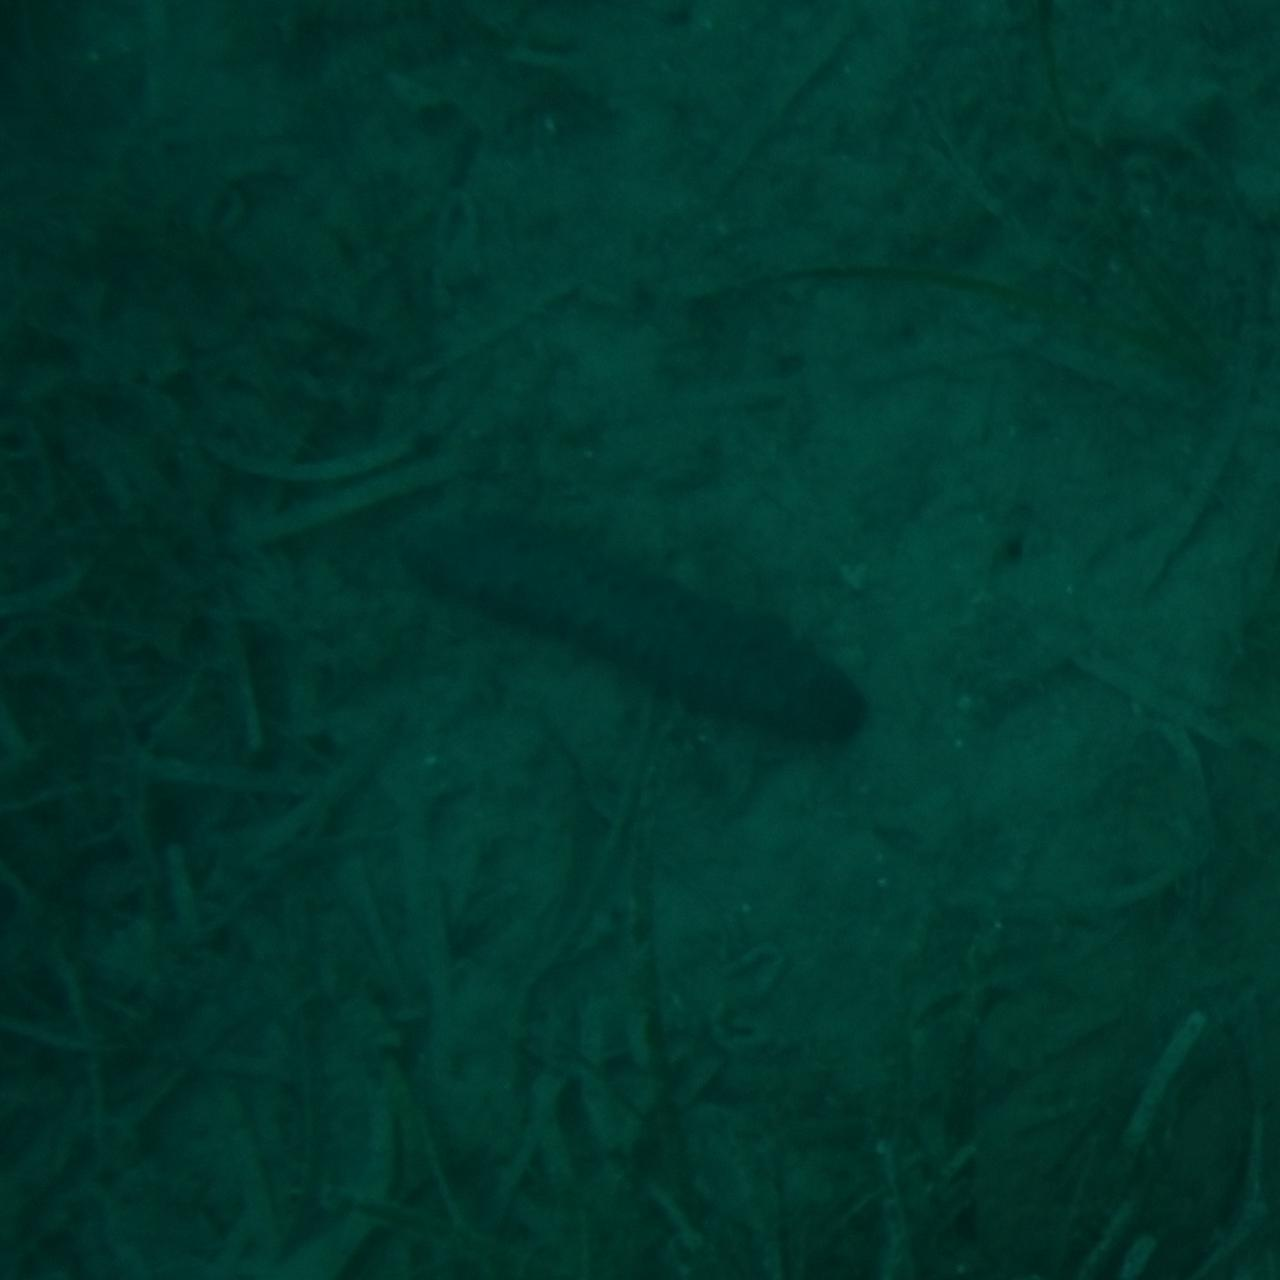Holothuria tubulosa: (402, 508, 878, 772)
